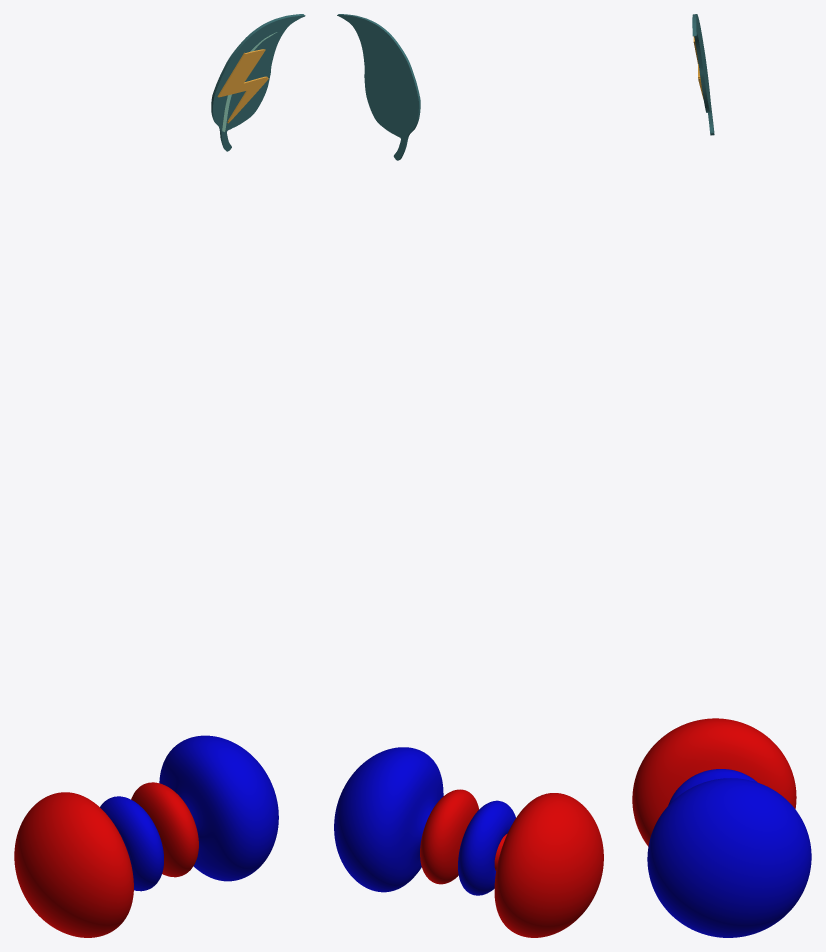
File: o2_sim_ae.glb
3 renders of one model, left to right at view 1: azimuth 30°, elevation 25°; view 2: azimuth 150°, elevation 25°; view 3: azimuth 270°, elevation 25°, orthographic. The views are drawn at different scales.
Parts seen in each view (by area): view 1: o2_sim_ae, path182, path186; view 2: o2_sim_ae, path182; view 3: o2_sim_ae, path182.
Boxes of the visible parts, box(x1,y1,x2,y2) form: o2_sim_ae: box(14, 735, 278, 937); path182: box(211, 14, 305, 151); path186: box(217, 49, 268, 123); o2_sim_ae: box(334, 747, 603, 937); path182: box(337, 14, 420, 160); o2_sim_ae: box(632, 718, 811, 937); path182: box(692, 14, 714, 135).
Bounding box in the file's own units: 1.81 × 5.63 × 0.9553.
